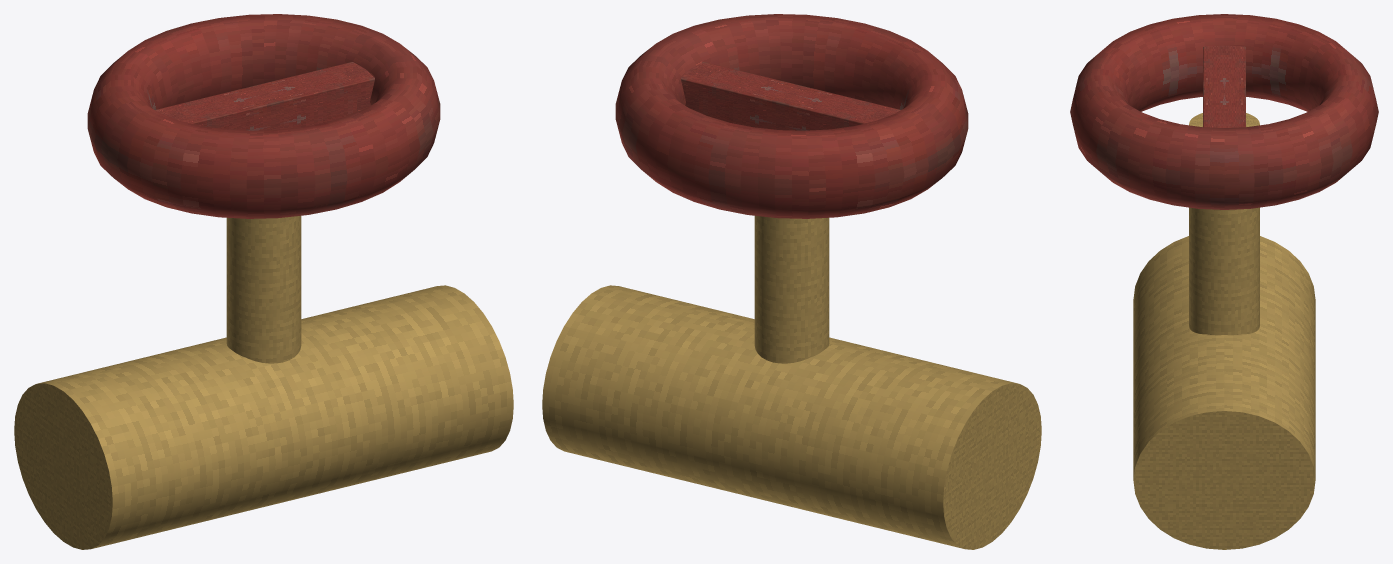
Rendered from valve.glb.
3 renders of one model, left to right at view 1: azimuth 30°, elevation 25°; view 2: azimuth 150°, elevation 25°; view 3: azimuth 270°, elevation 25°, orthographic. The views are drawn at different scales.
Visible parts, largest first — view 1: body, wheel, stem, spoke; view 2: body, wheel, stem, spoke; view 3: body, wheel, stem, spoke.
Boxes of the visible parts, box(x1,y1,x2,y2) form: body: box(14, 285, 513, 549); wheel: box(87, 14, 440, 218); stem: box(226, 216, 301, 363); spoke: box(155, 62, 374, 130); body: box(542, 285, 1041, 549); wheel: box(615, 14, 968, 218); stem: box(754, 216, 829, 363); spoke: box(681, 62, 900, 130); body: box(1133, 236, 1315, 549); wheel: box(1070, 14, 1378, 209); stem: box(1189, 113, 1259, 335); spoke: box(1203, 45, 1245, 127).
Bounding box in the file's own units: 0.18 × 0.1786 × 0.13.
Materials: 2 (2 with a texture image).
